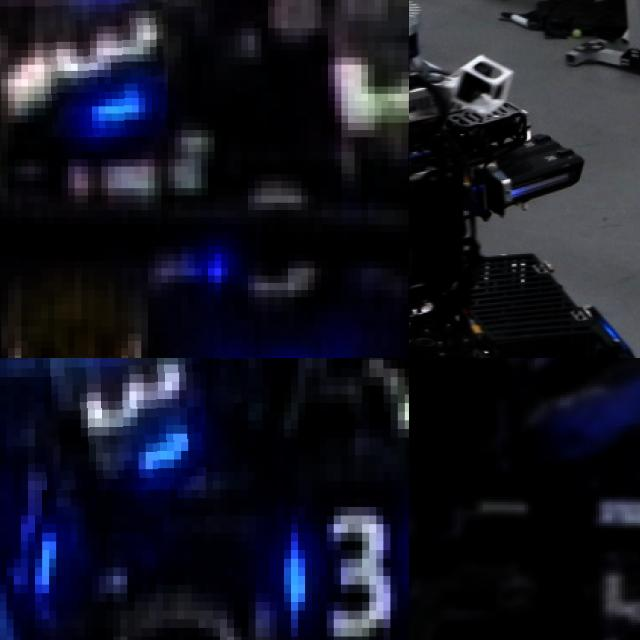B3: (255, 480, 409, 640), (35, 358, 205, 489), (34, 0, 168, 137)
